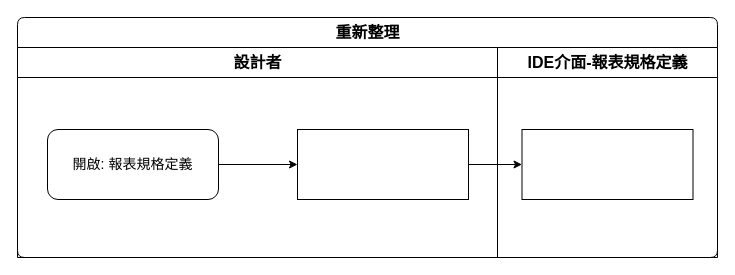
This 735x275 diagram has some shape labels left out. The centre of each missing label's shape, as x and y in pixels:
"執行按鈕.重新整理" belongs at pixel 382 164.
"重新顯示 規格描述區塊" belongs at pixel 607 164.
